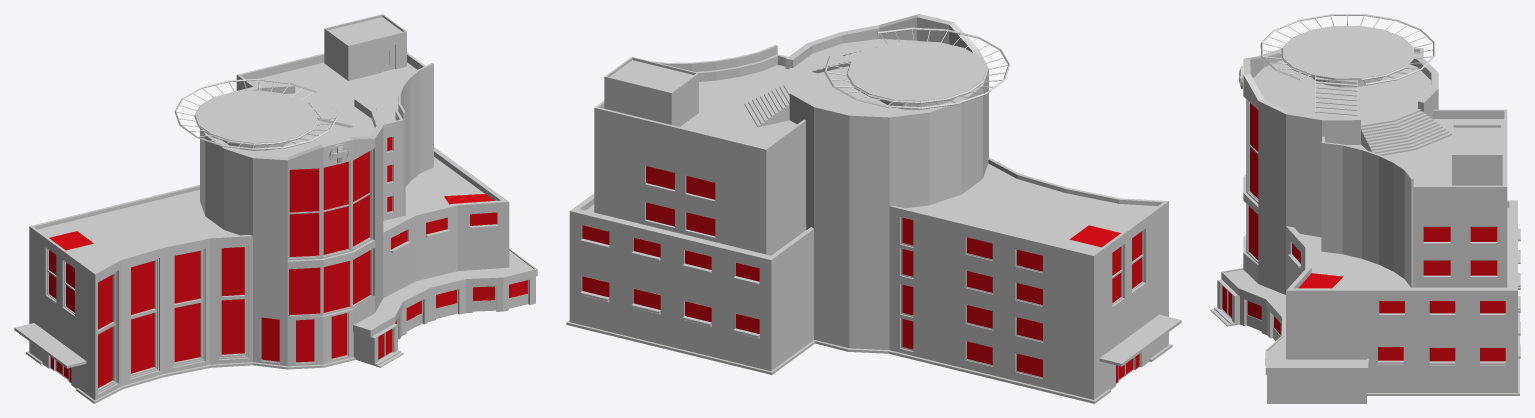
Rendered from SM_infrastructure_buildings_07.glb.
3 views of the same model, side by side, from view 1: azimuth 30°, elevation 25°; view 2: azimuth 150°, elevation 25°; view 3: azimuth 270°, elevation 25° (orthographic). The views are drawn at different scales.
Visible parts, largest first — view 1: infrastructure_buildings_07; view 2: infrastructure_buildings_07; view 3: infrastructure_buildings_07.
Boxes of the visible parts, box(x1,y1,x2,y2) form: infrastructure_buildings_07: box(14, 14, 537, 403); infrastructure_buildings_07: box(566, 14, 1181, 403); infrastructure_buildings_07: box(1210, 14, 1520, 403).
Bounding box in the file's own units: 46 × 21.43 × 26.
